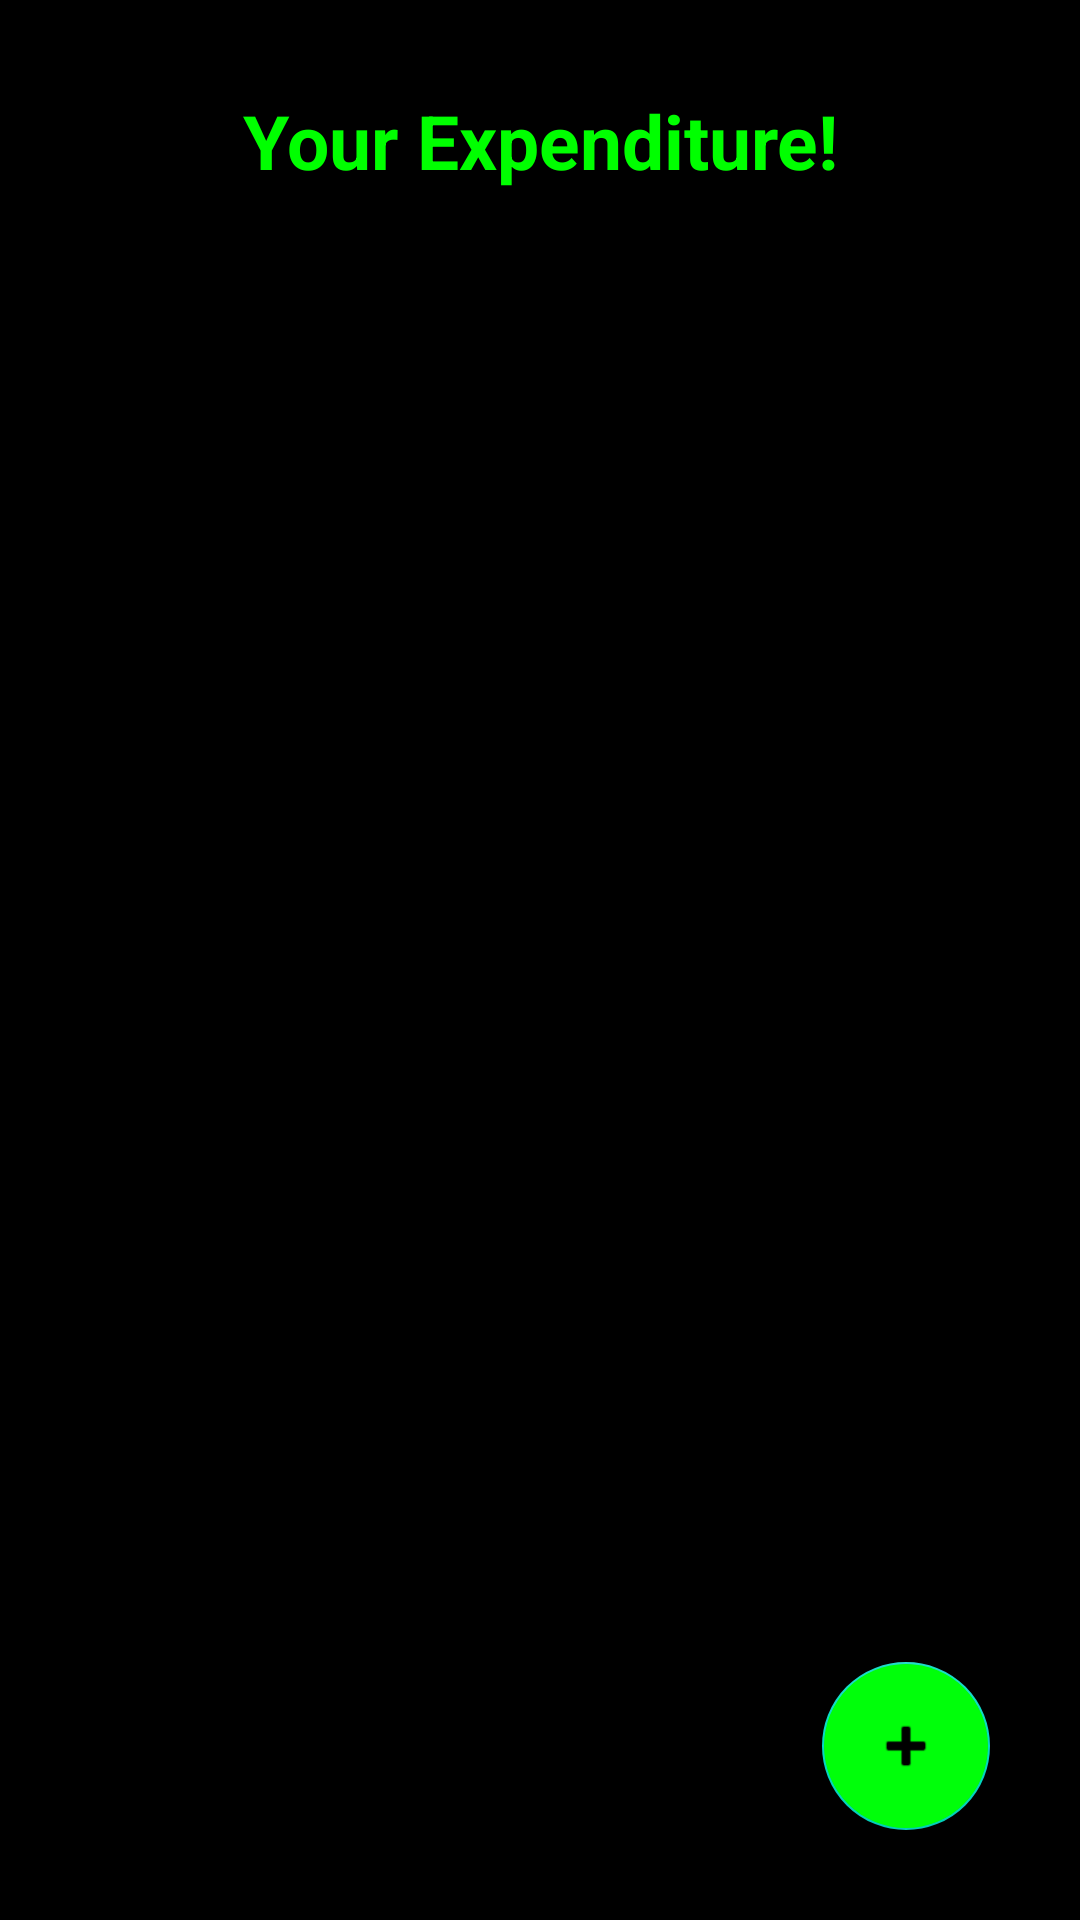

Screen size 1080*1920. Icon name, then its box in pixels as detection(x1, y1, x2, y2):
Add new: detection(822, 1662, 990, 1830)
